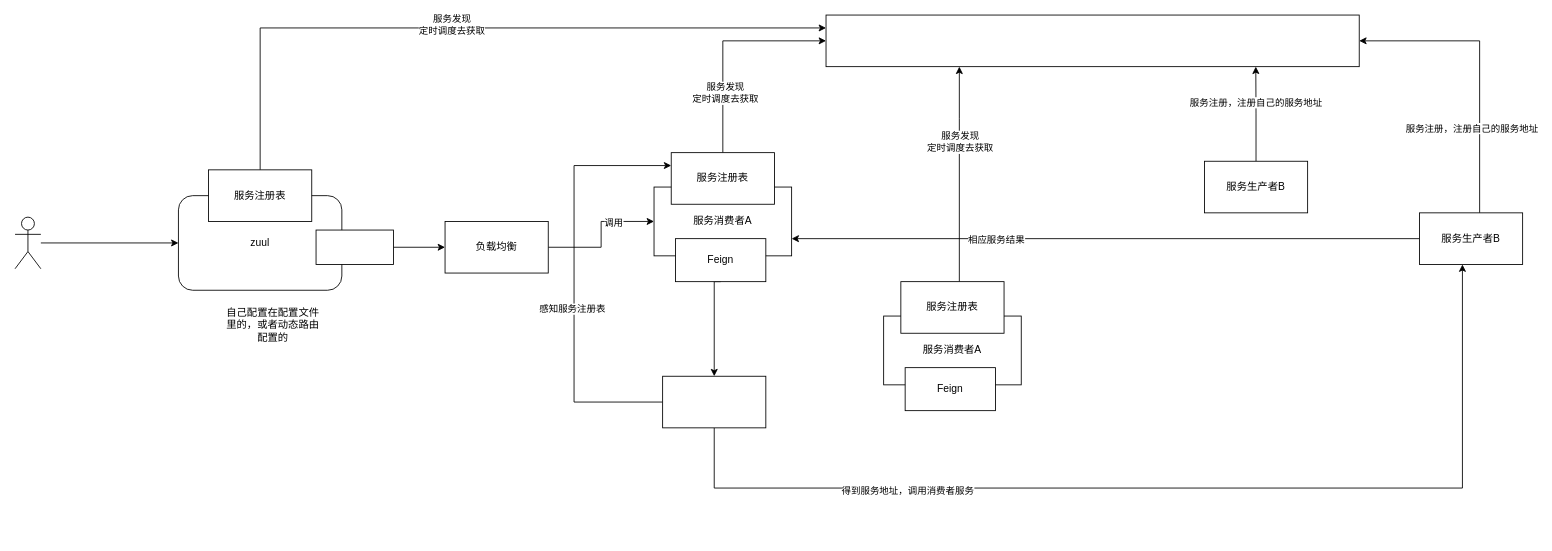
Image size: 1552x551. Some labels were removed from this diagram. The centre of each missing label's shape, as x and y in pixels:
Actor: pixel 27 242
Ribbon 通过负载均衡选择合适的服务地址: pixel 714 401
服务注册中心（eureka）: pixel 1092 40
路由表: pixel 354 246
